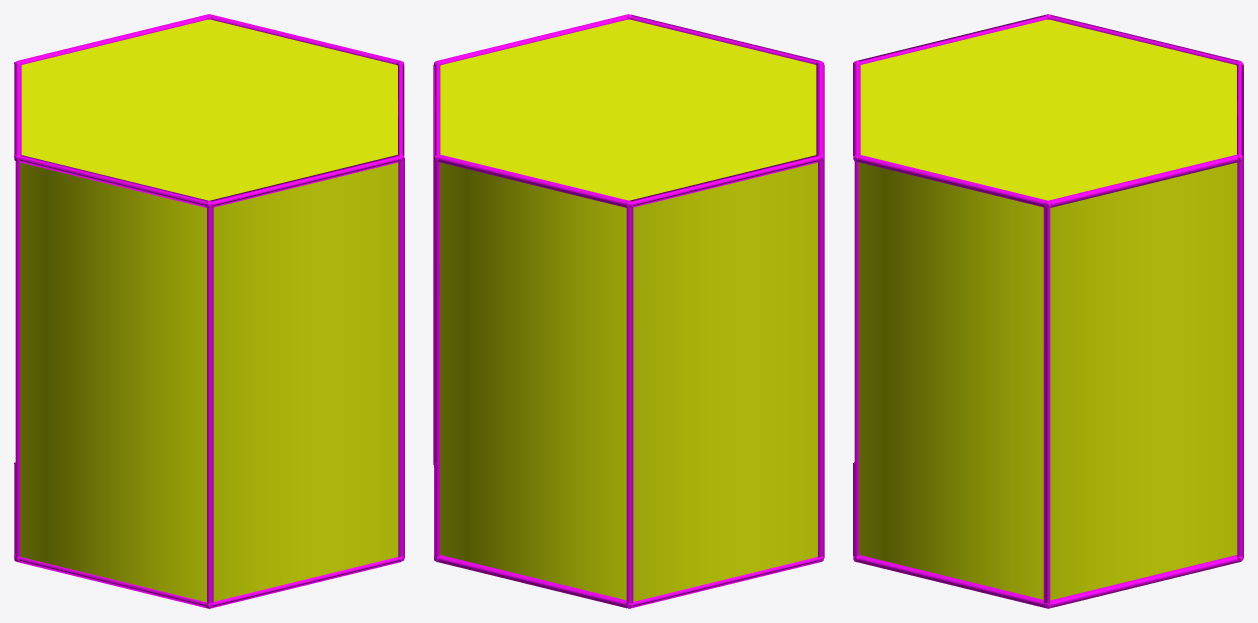
Rendered from hexagono_caras.glb.
3 views of the same model, side by side, from view 1: azimuth 30°, elevation 25°; view 2: azimuth 150°, elevation 25°; view 3: azimuth 270°, elevation 25° (orthographic).
Visible parts, largest first — view 1: Hexagono001, caras; view 2: Hexagono001, caras; view 3: Hexagono001, caras.
Boxes of the visible parts, <box> form: Hexagono001: <box>20,19,398,602</box>; caras: <box>14,14,404,608</box>; Hexagono001: <box>440,19,817,601</box>; caras: <box>433,14,824,608</box>; Hexagono001: <box>859,19,1237,600</box>; caras: <box>853,14,1243,608</box>.
Size of the model in its own units: 0.7756 by 0.7772 by 0.6741.
